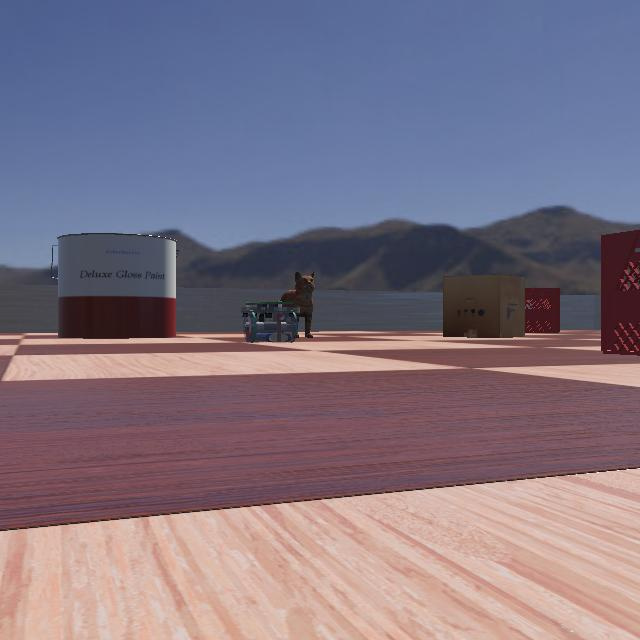cardboard-box: (434, 273, 538, 337), (434, 273, 538, 337), (434, 273, 538, 337)
paint-bucket: (13, 232, 190, 340), (13, 232, 190, 340), (13, 232, 190, 340), (13, 232, 190, 340)
plastic-crate: (590, 216, 640, 360), (498, 286, 560, 332), (498, 286, 560, 332)
